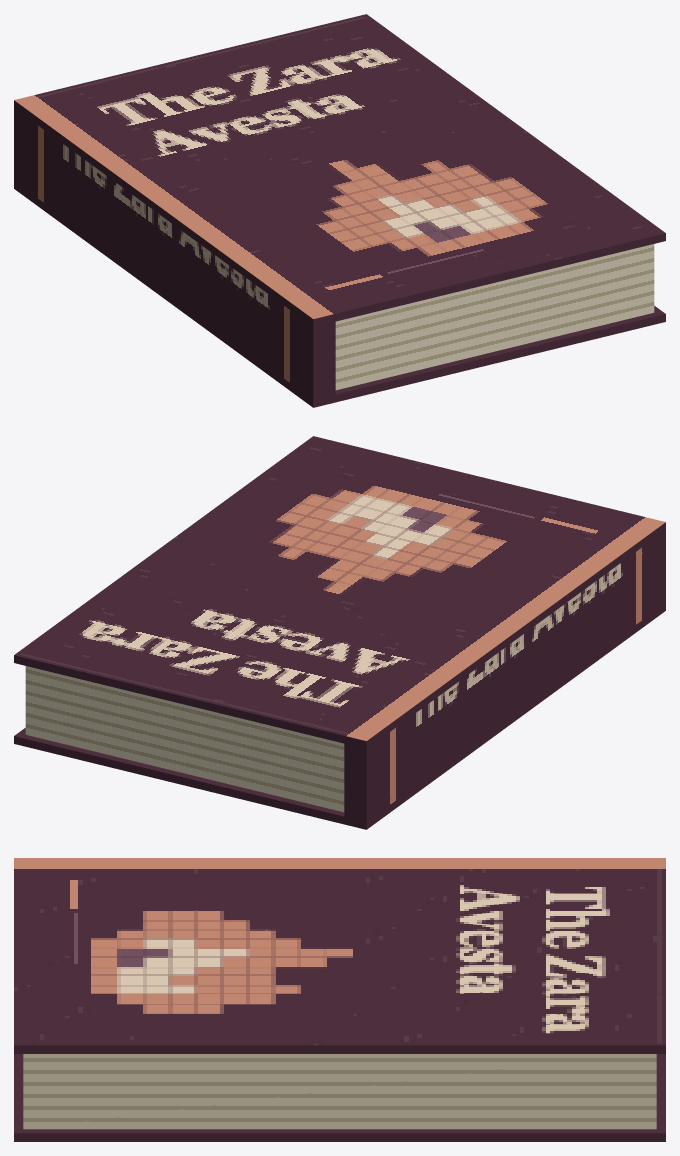
The model's file is holybook_zara.glb.
3 views of the same model, one above another, from view 1: azimuth 30°, elevation 25°; view 2: azimuth 150°, elevation 25°; view 3: azimuth 270°, elevation 25° (orthographic). The views are drawn at different scales.
Parts seen in each view (by area): view 1: block_front cover, block_spine, block_page block, block_back cover; view 2: block_front cover, block_spine, block_page block, block_back cover; view 3: block_front cover, block_page block, block_back cover.
Boxes of the visible parts, <box> form: block_front cover: <box>14,14,665,326</box>; block_spine: <box>14,108,335,399</box>; block_page block: <box>335,244,654,390</box>; block_back cover: <box>14,181,665,407</box>; block_front cover: <box>14,436,665,748</box>; block_spine: <box>344,530,665,821</box>; block_page block: <box>25,666,344,812</box>; block_back cover: <box>14,603,665,829</box>; block_front cover: <box>14,858,665,1053</box>; block_page block: <box>23,1054,656,1129</box>; block_back cover: <box>14,1054,665,1141</box>.
Bounding box in the file's own units: 0.1414 × 0.034 × 0.208.
Materials: 1 (1 with a texture image).
